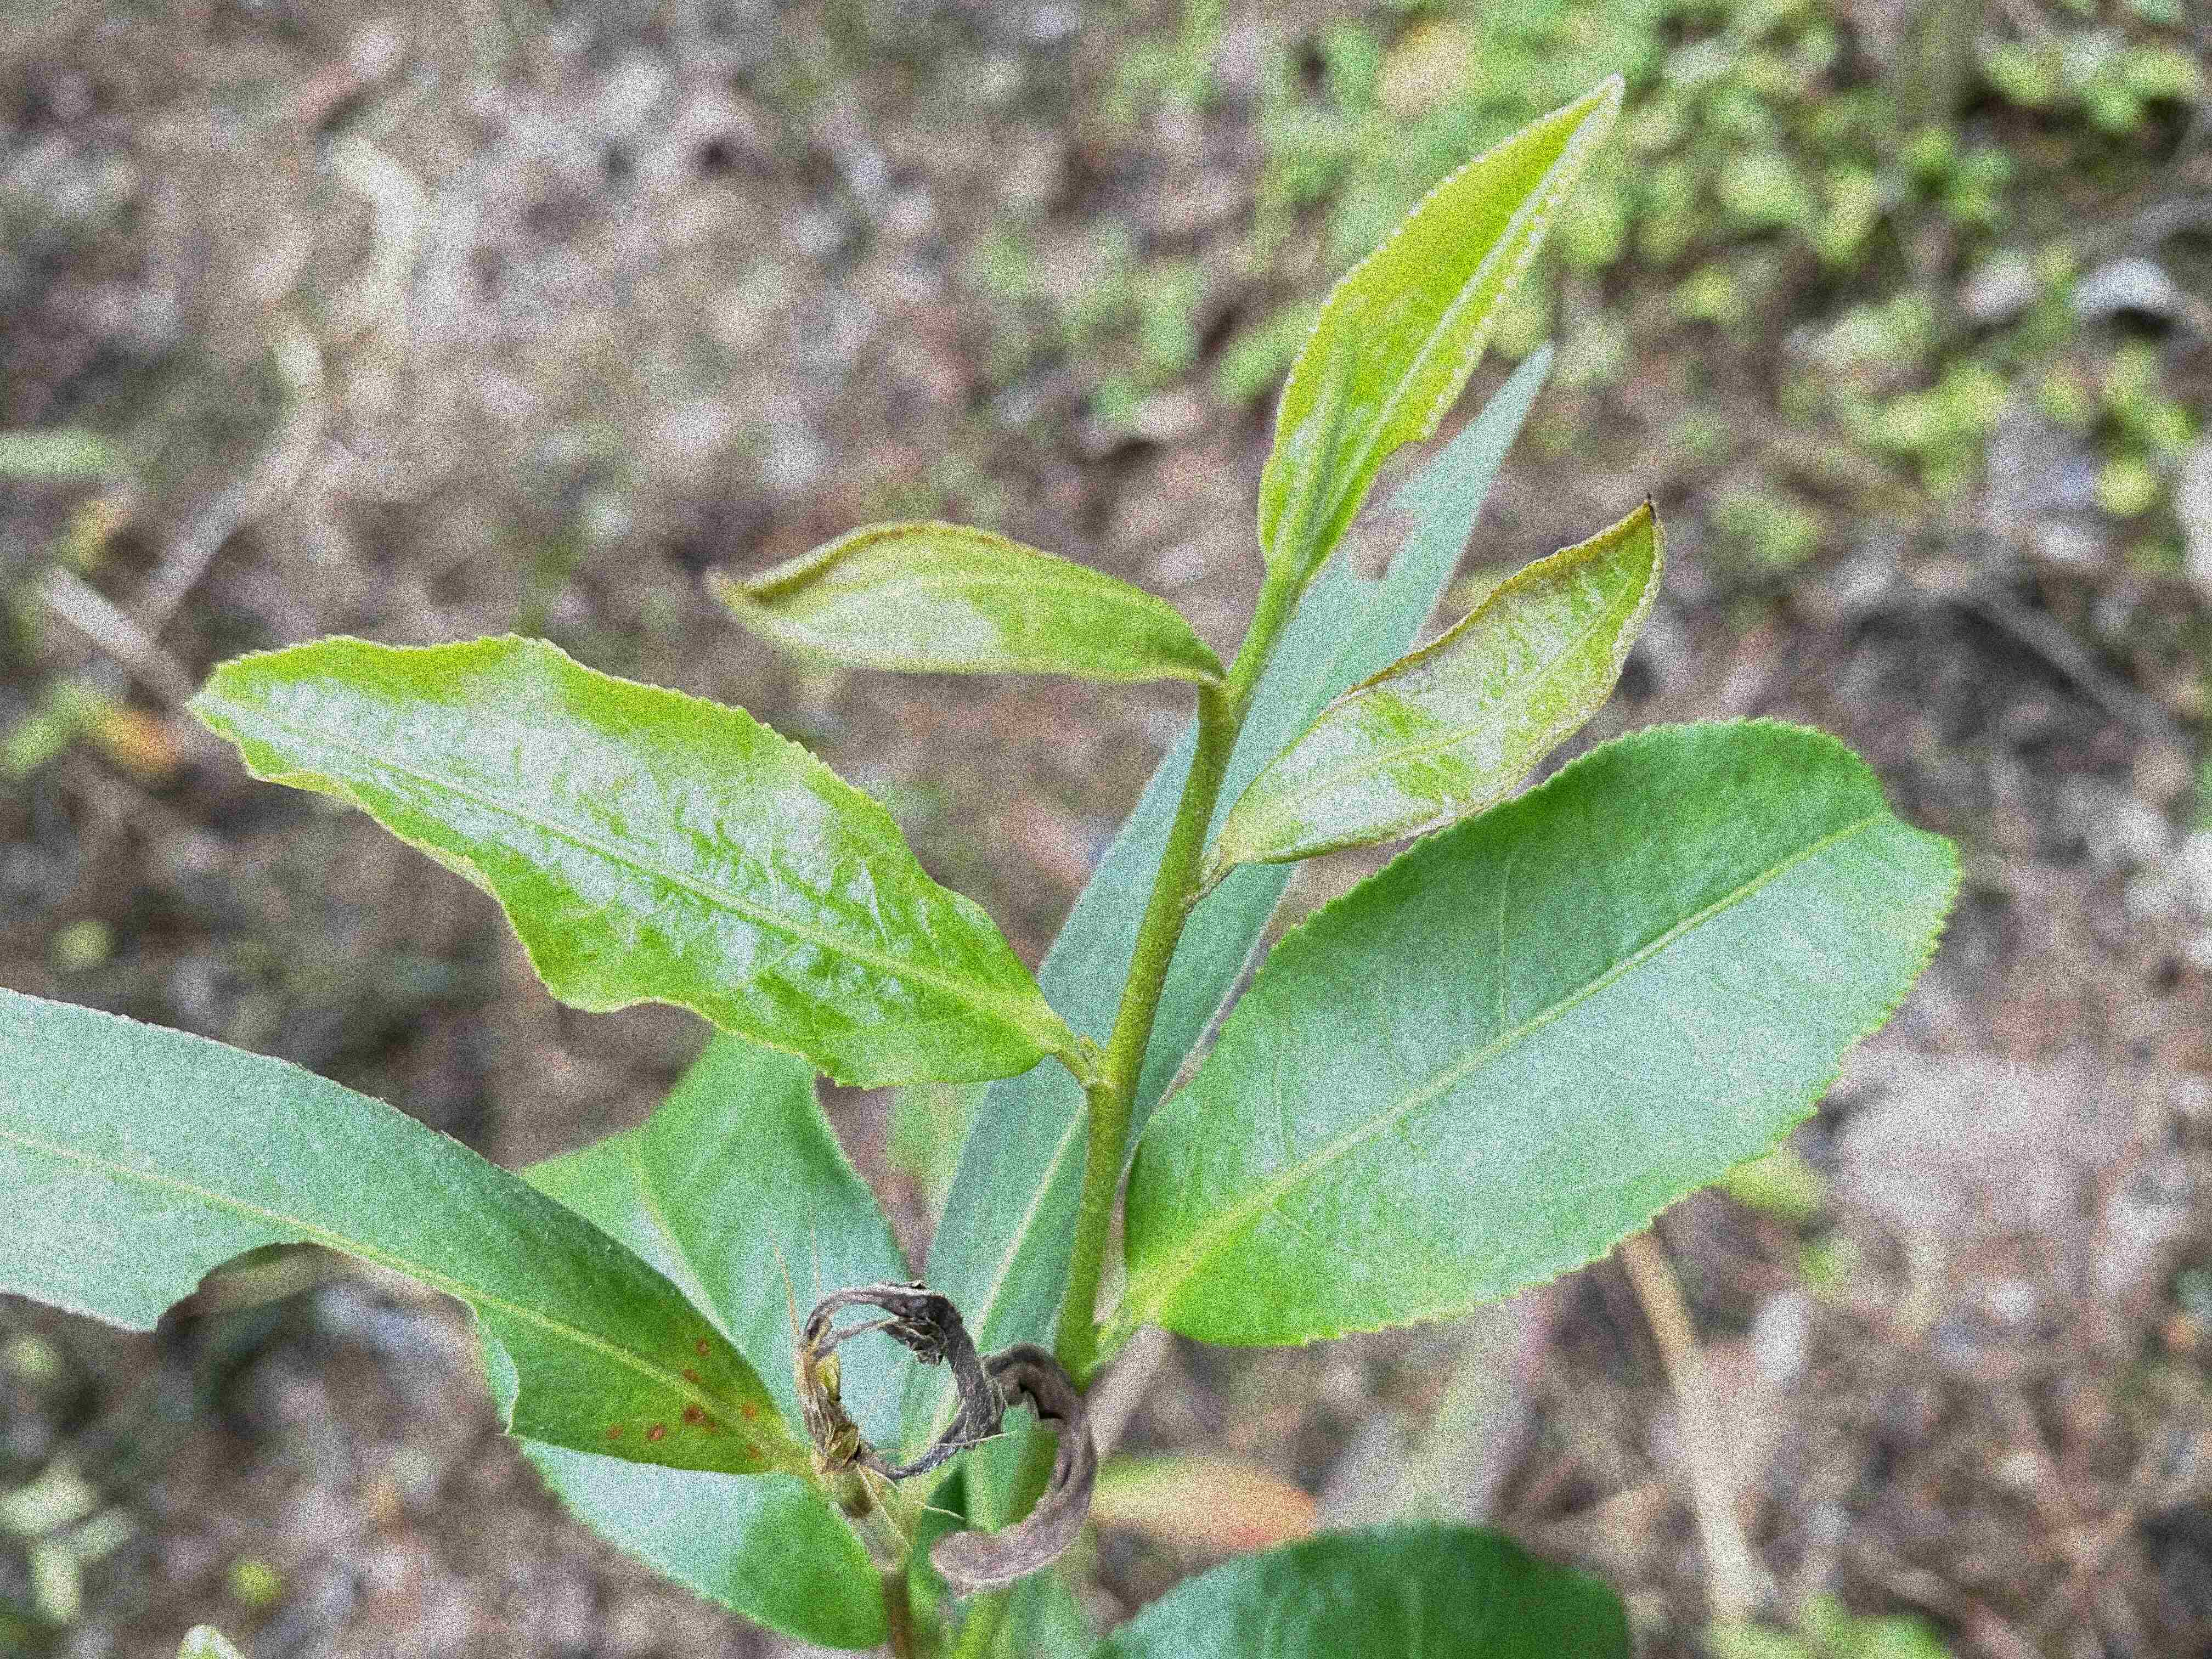chihuo_low: (3, 978, 789, 1476)
healthy: (1120, 713, 1970, 1351), (183, 631, 1049, 1096)
tanju_low: (1228, 495, 1669, 868), (704, 518, 1202, 687)
